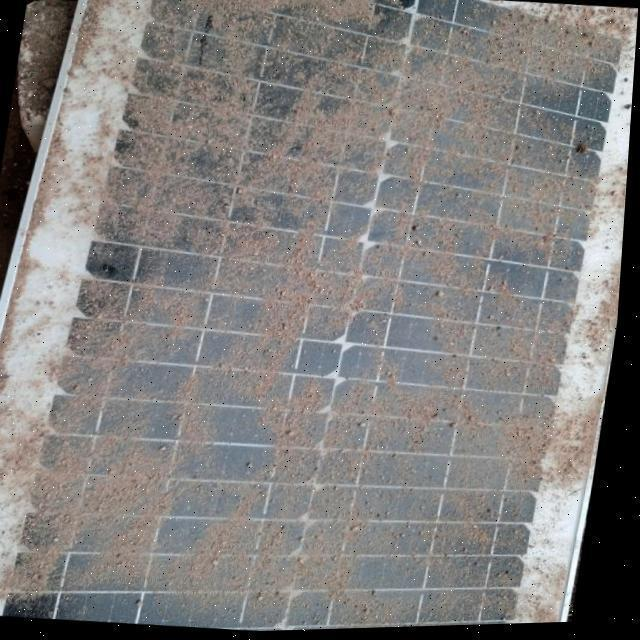Surface Contaminant: (43, 0, 638, 633)
